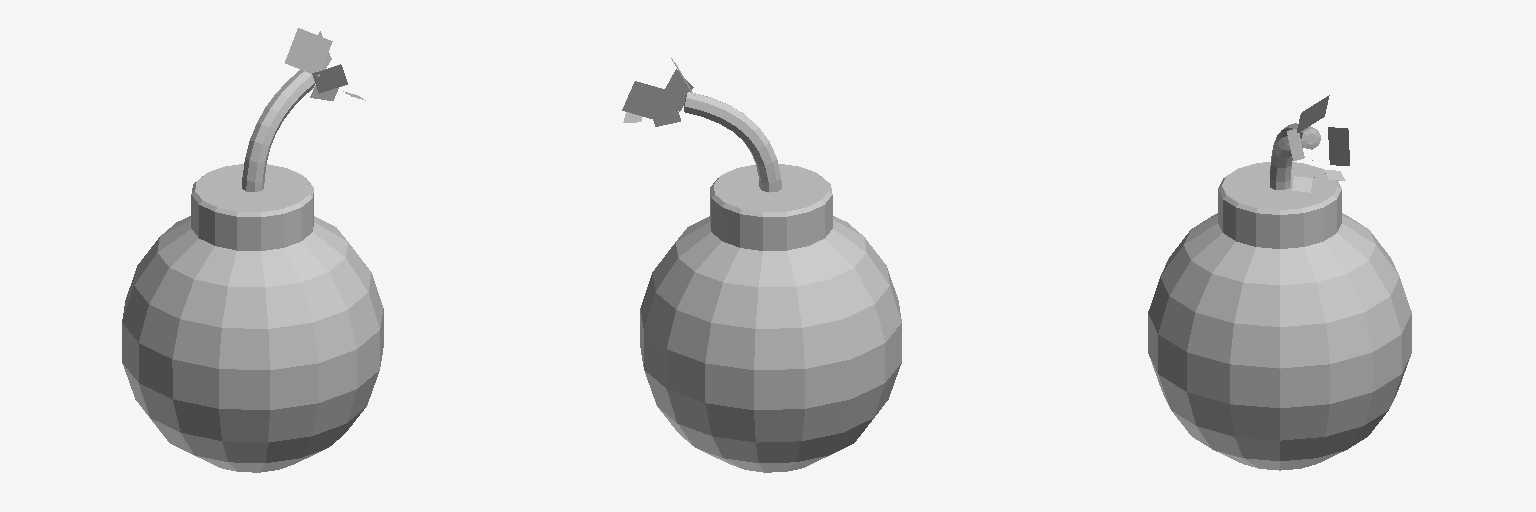
Rendered from bomb_000007.obj.
The picture shows the model from 3 angles: view 1: azimuth 30°, elevation 25°; view 2: azimuth 150°, elevation 25°; view 3: azimuth 270°, elevation 25°; orthographic projection.
Parts seen in each view (by area): view 1: Sphere, NurbsPath, Plane_5.001_Mesh.001; view 2: Sphere, NurbsPath, Plane_5.001_Mesh.001; view 3: Sphere, Plane_5.001_Mesh.001, NurbsPath.
Part boxes in pixels (x1,y1,x2,y2): Sphere: (122, 164, 383, 472); NurbsPath: (242, 70, 315, 191); Plane_5.001_Mesh.001: (285, 28, 365, 100); Sphere: (640, 164, 901, 472); NurbsPath: (684, 92, 781, 192); Plane_5.001_Mesh.001: (622, 58, 694, 126); Sphere: (1148, 162, 1411, 470); Plane_5.001_Mesh.001: (1287, 95, 1349, 192); NurbsPath: (1270, 123, 1320, 189).
Size of the model in its own units: 0.8513 by 1.34 by 0.8282.